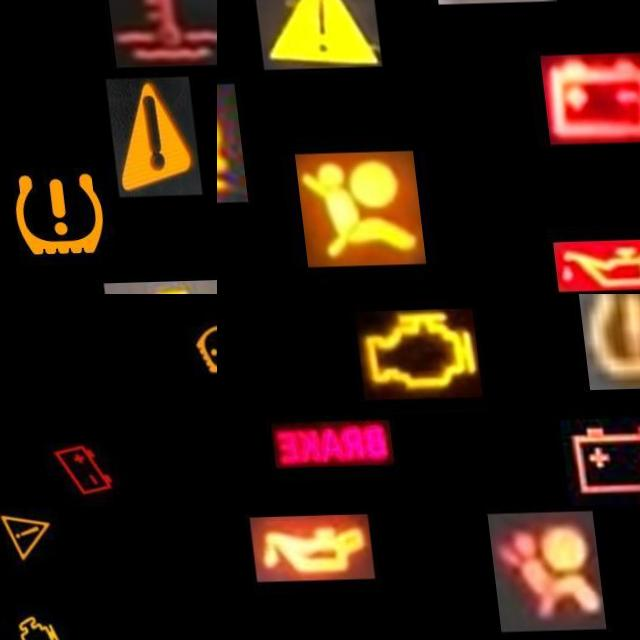Central Warning lamp: (102, 79, 196, 199), (245, 0, 372, 70)
Engine cooling system: (104, 0, 217, 69)
